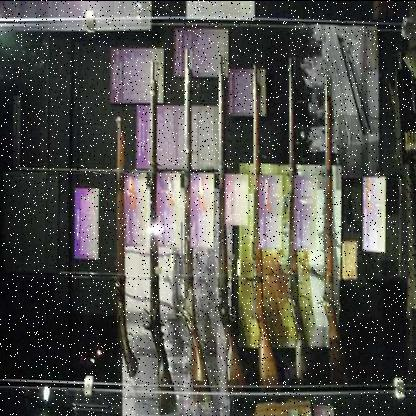rifle: (136, 42, 187, 416), (314, 71, 369, 388), (174, 14, 217, 411), (242, 56, 292, 395), (213, 37, 253, 416), (281, 52, 315, 388), (99, 98, 139, 381)
